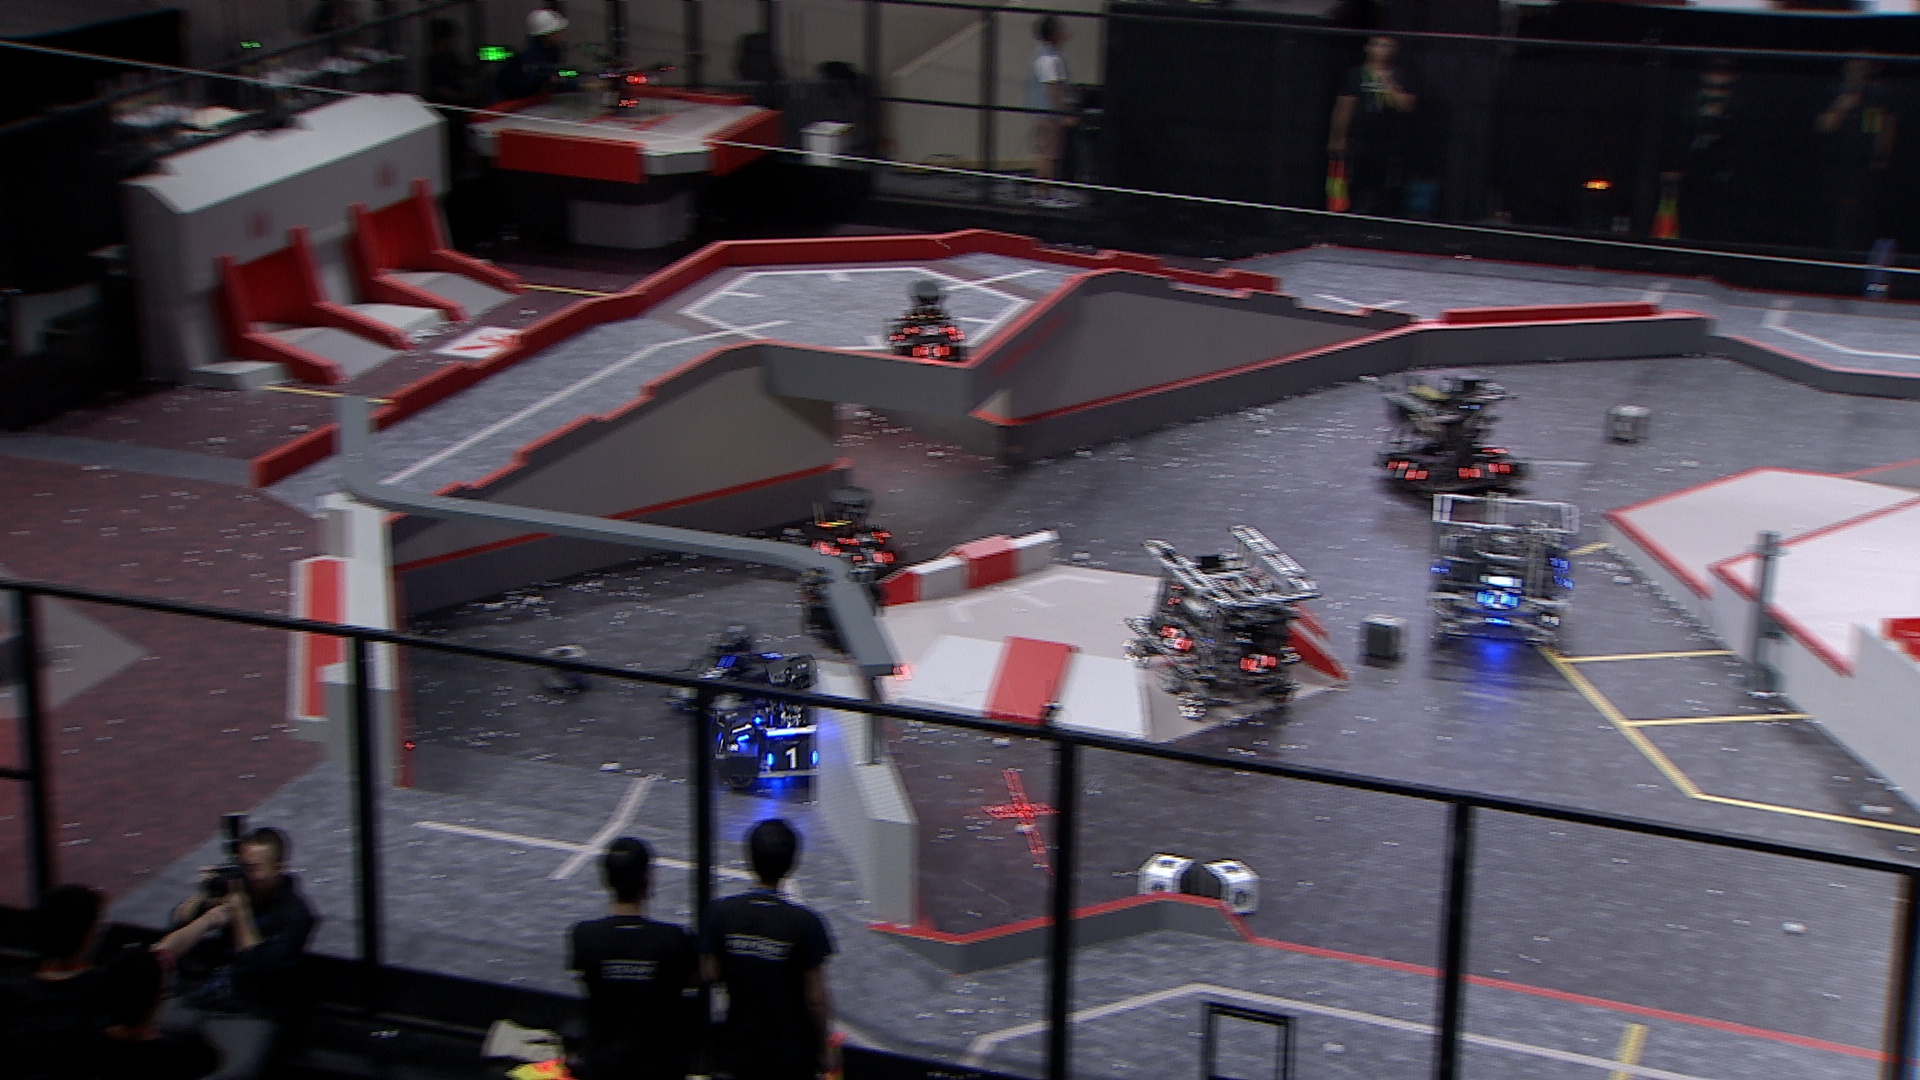armor: (764, 741, 820, 771), (836, 524, 893, 549), (694, 657, 733, 688), (901, 320, 953, 342), (1382, 458, 1424, 483), (1480, 585, 1516, 612), (711, 723, 735, 764), (1458, 458, 1495, 483), (1162, 624, 1192, 651), (1242, 651, 1276, 675), (731, 713, 757, 744), (910, 342, 945, 361)
car: (1125, 527, 1325, 713), (1427, 485, 1578, 655), (1364, 363, 1523, 496), (709, 655, 852, 787), (785, 484, 913, 591), (661, 618, 778, 712), (878, 281, 971, 371)
watcher: (793, 527, 887, 651)
